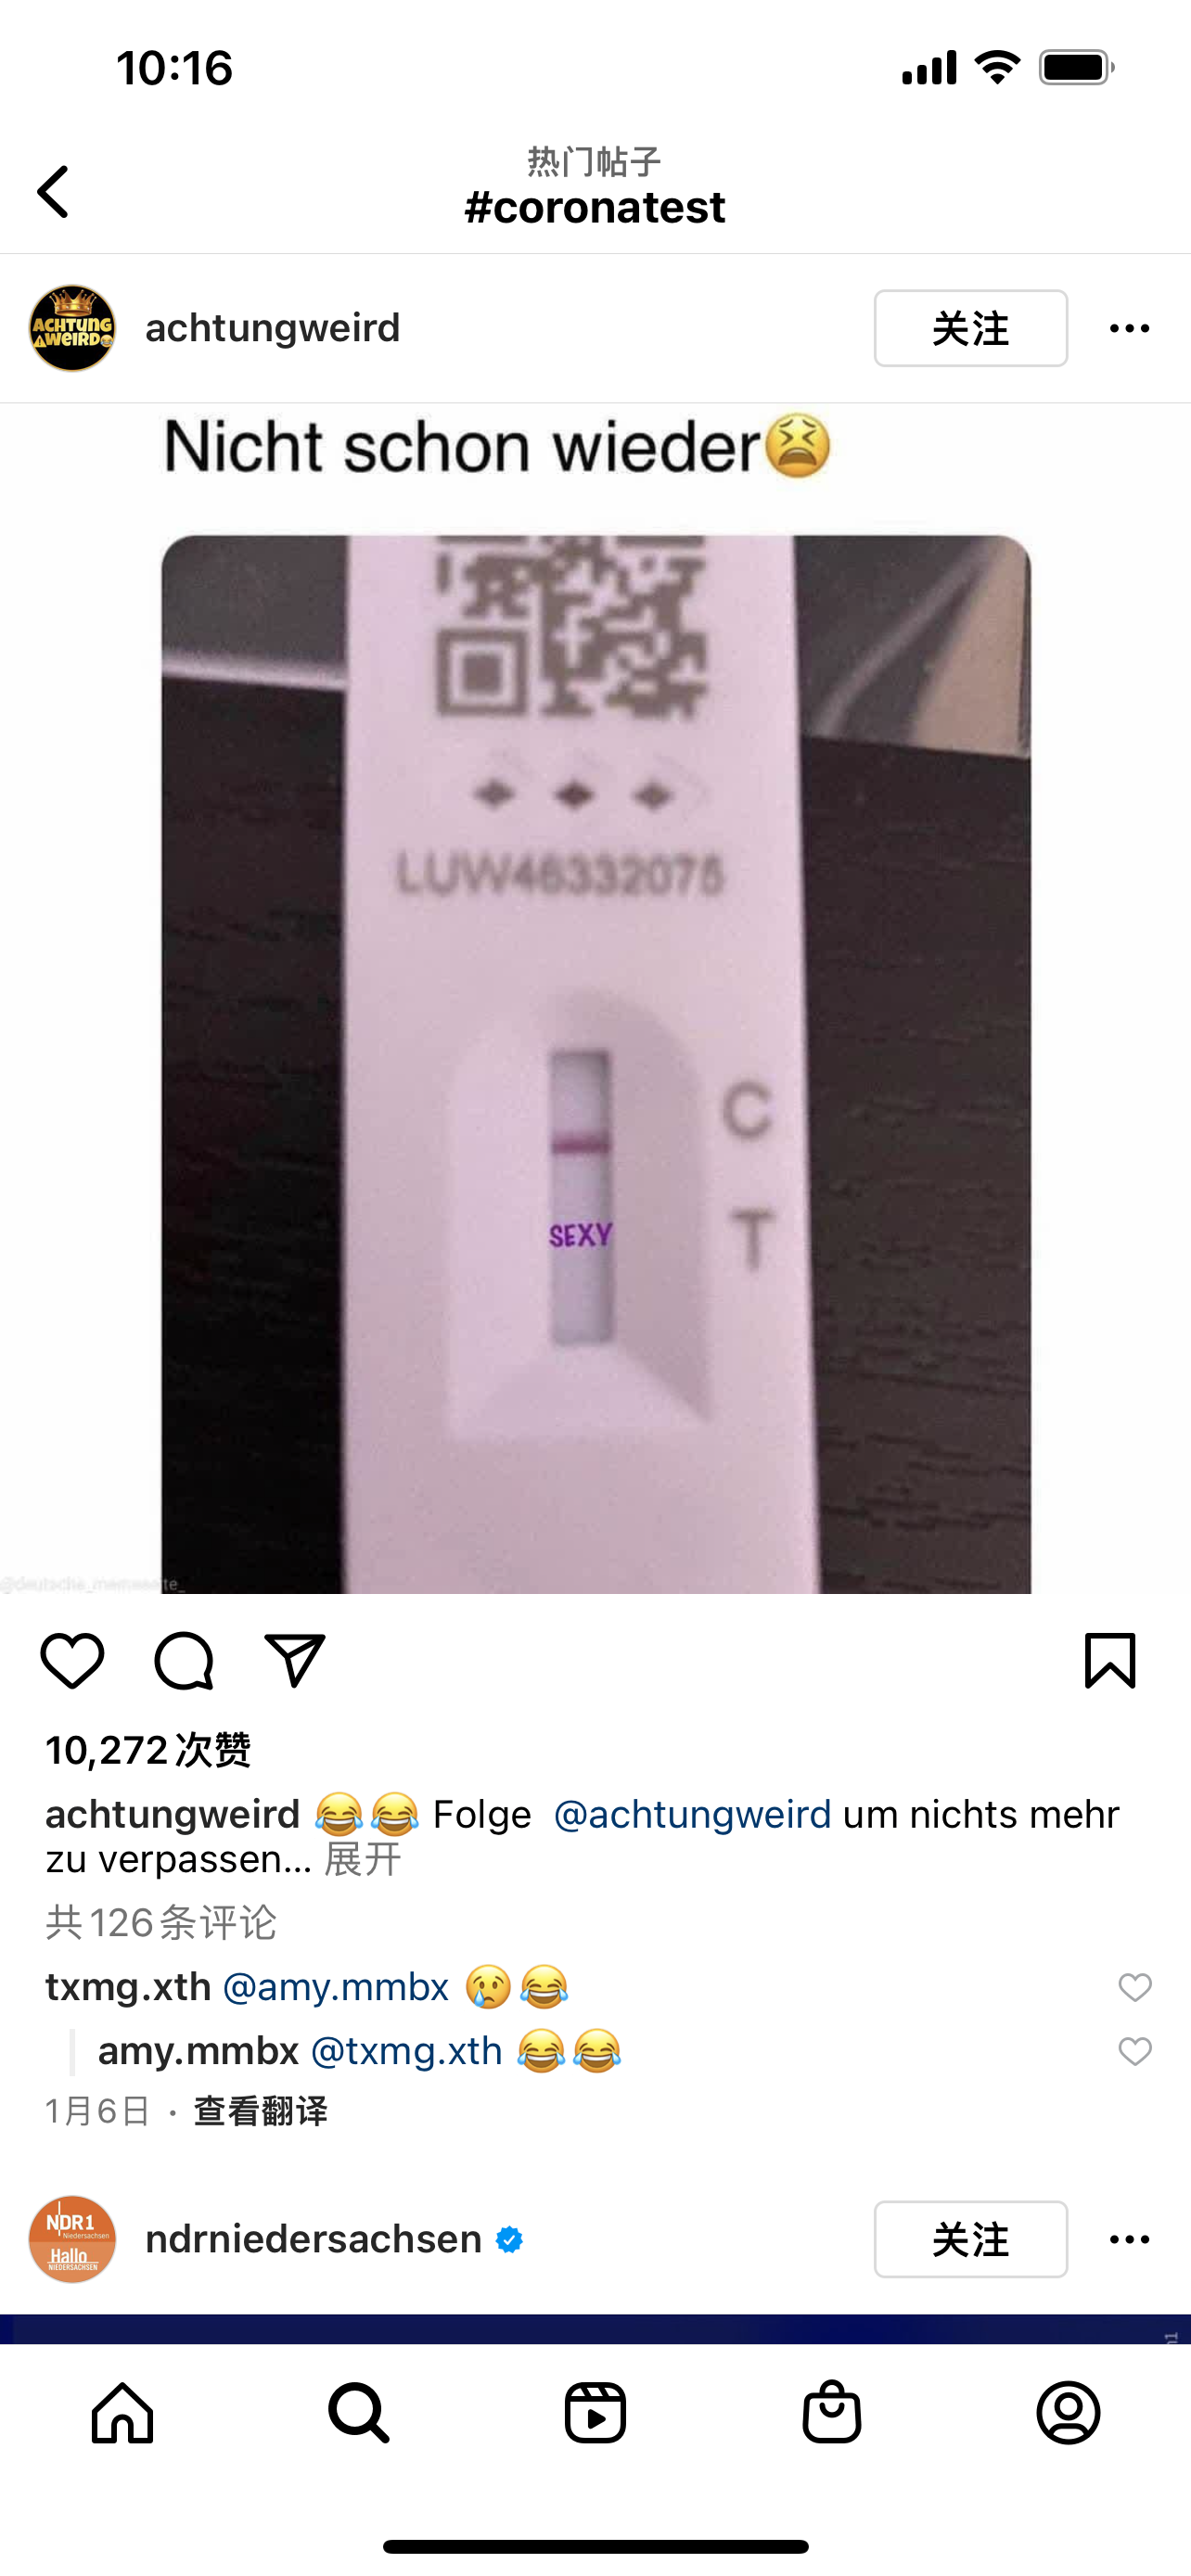positive: (480, 1014, 677, 1419)
